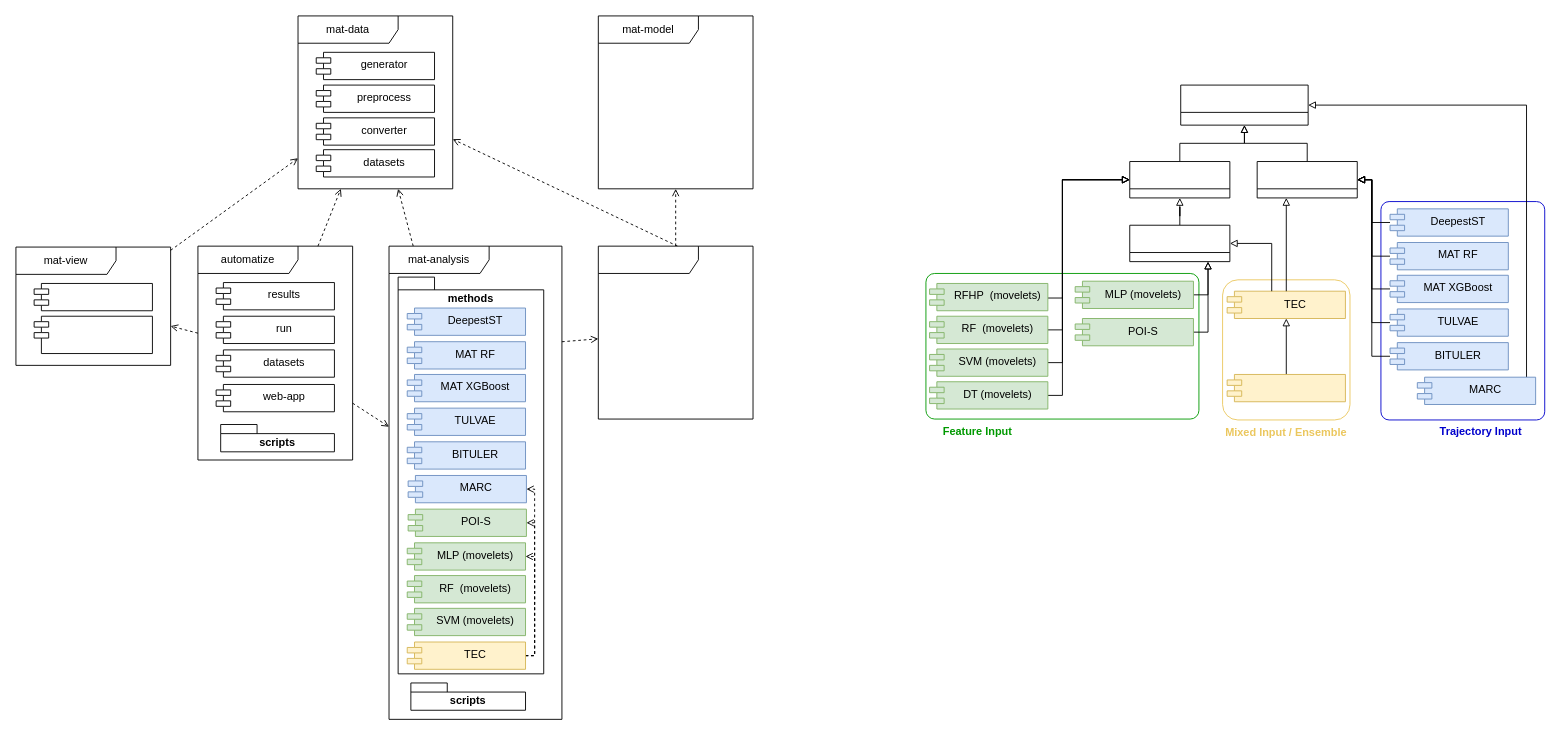
Some shapes in this 1561 by 735 pixel diagram are drawn without their labels. The shapes that lost their labels are listed below. From the top down, each one's centre as x and y in pixels, then its label:
At pixel 1244 104: "AbstractClassifier".
At pixel 1179 179: "MClassifier".
At pixel 1306 179: "HPSClassifier".
At pixel 1179 243: "MHPSClassifier".
At pixel 92 297: "graphics".
At pixel 92 334: "web-app (Movelets & MAT)".
At pixel 675 332: "movelets".
At pixel 1285 388: "MSTEC".
